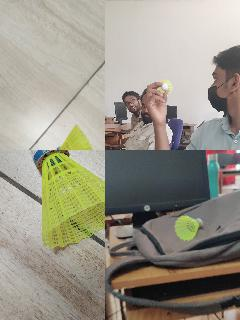shuttlecock: (30, 150, 104, 249), (53, 123, 94, 149), (174, 216, 202, 240), (158, 79, 172, 95)
